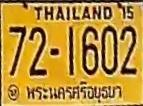0: (101, 25, 117, 74)
1: (68, 26, 73, 69)
2: (29, 26, 47, 77), (120, 26, 137, 76)
6: (82, 26, 98, 74)
7: (9, 25, 27, 76)
AYA: (24, 82, 124, 104)
